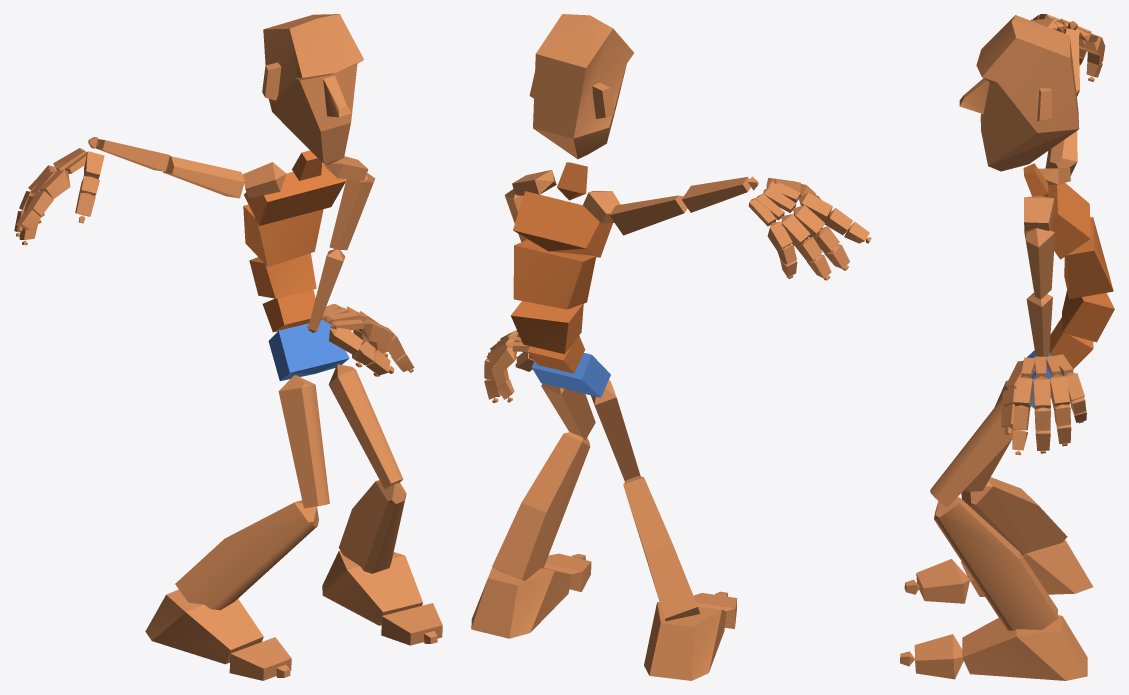
3 views of the same model, side by side, from view 1: azimuth 30°, elevation 25°; view 2: azimuth 150°, elevation 25°; view 3: azimuth 270°, elevation 25° (orthographic).
Parts seen in each view (by area): view 1: BOPED_Head, BOPED_R_leg, BOPED_R_foot, BOPED_R_foot01, BOPED_R_legup, BOPED_L_leg, BOPED_L_legup, Bone01, Bone04, Bone05, Bone03, BOPED_R_arm_upper (+9 smaller); view 2: BOPED_Head, BOPED_L_leg, BOPED_R_foot01, BOPED_R_foot, BOPED_R_leg, Bone04, Bone05, Bone03, BOPED_R_legup, Bone01, BOPED_R_arm_upper, BOPED_L_legup (+7 smaller); view 3: BOPED_Head, BOPED_L_leg, BOPED_R_foot01, BOPED_R_leg, BOPED_L_legup, BOPED_R_foot, Bone05, Bone04, Bone03, BOPED_R_foot_toe01, BOPED_R_foot_toe04, BOPED_L_arm_upper (+15 smaller).
Boxes of the visible parts, x1,y1,x2,y2 form: BOPED_Head: (262,14,364,164); BOPED_R_leg: (175,500,318,610); BOPED_R_foot: (145,589,263,664); BOPED_R_foot01: (322,550,422,625); BOPED_R_legup: (278,375,329,508); BOPED_L_leg: (338,479,406,573); BOPED_L_legup: (328,364,403,488); Bone01: (268,320,349,380); Bone04: (243,204,323,266); Bone05: (244,163,345,225); Bone03: (249,253,316,298); BOPED_R_arm_upper: (163,156,244,198); BOPED_Head: (529,14,633,159); BOPED_L_leg: (492,432,590,580); BOPED_R_foot01: (471,567,572,638); BOPED_R_foot: (644,602,726,680); BOPED_R_leg: (623,476,699,621); Bone04: (513,240,596,309); Bone05: (513,191,612,257); Bone03: (510,301,583,354); BOPED_R_legup: (591,380,640,481); Bone01: (532,353,610,397); BOPED_R_arm_upper: (609,195,687,235); BOPED_L_legup: (541,383,595,439); BOPED_Head: (959,15,1079,171); BOPED_L_leg: (934,497,1057,630); BOPED_R_foot01: (962,615,1087,680); BOPED_R_leg: (961,477,1067,555); BOPED_L_legup: (930,398,1018,506); BOPED_R_foot: (961,539,1093,596); Bone05: (1047,183,1090,259); Bone04: (1064,217,1113,299); Bone03: (1062,290,1114,342); BOPED_R_foot_toe01: (916,559,969,603); BOPED_R_foot_toe04: (914,634,963,679); BOPED_L_arm_upper: (1024,227,1055,299).
Bounding box in the file's own units: 120 × 178 × 56.5.
